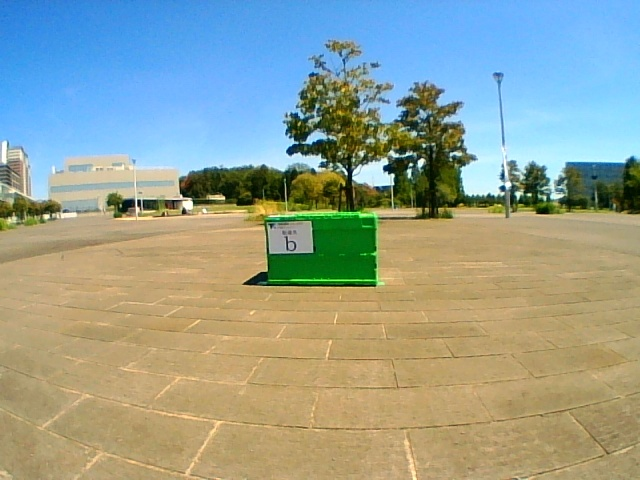green_box: (265, 214, 377, 285)
tag_b: (268, 222, 311, 253)
